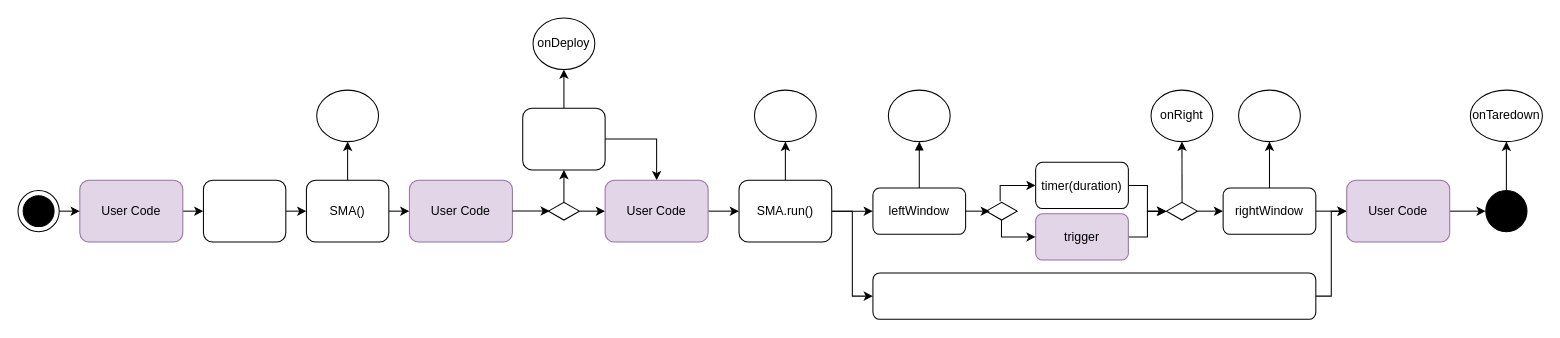
Some shapes in this 1560 by 338 pixel diagram are drawn without their labels. Here are the shapes that lost their labels. From the top down, the centre of each, then its label:
the point at 347,115: onSetup
the point at 784,115: onStart
the point at 918,115: onLeft
the point at 1269,115: onEnd
the point at 563,138: Deploy
the point at 244,210: Config()
the point at 1094,295: measrument collection
